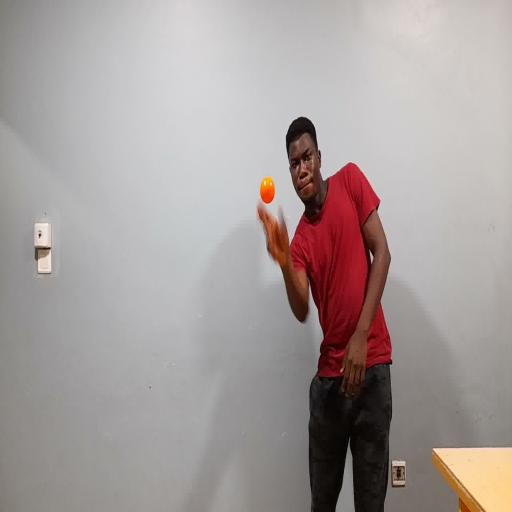plastic-ball: (259, 174, 275, 206)
